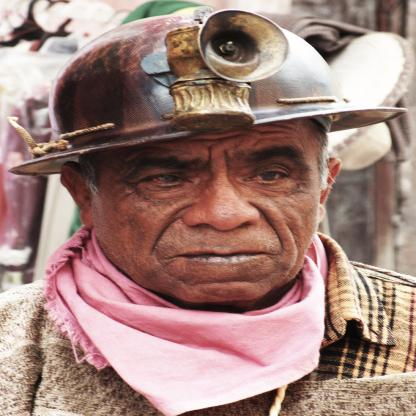Helmet: (7, 13, 405, 178)
